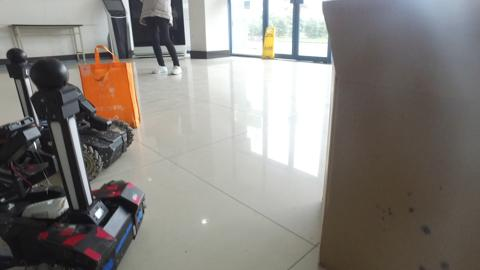bag: (77, 46, 143, 129)
chariot: (6, 61, 152, 270)
